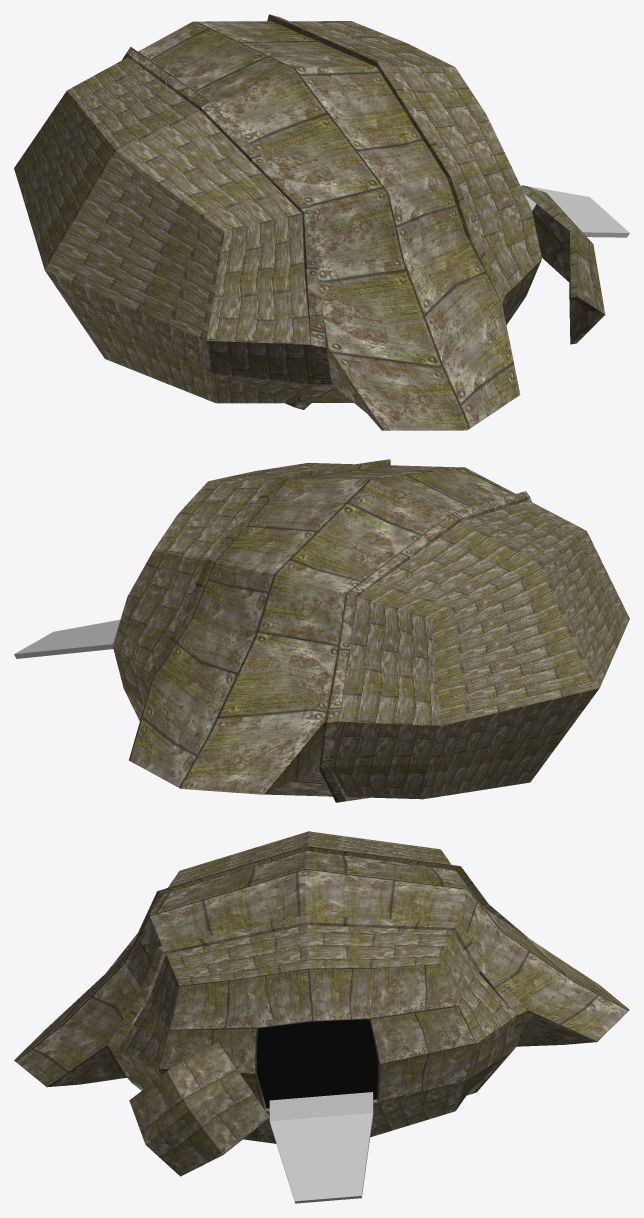
File: ship.fbx
3 views of the same model, one above another, from view 1: azimuth 30°, elevation 25°; view 2: azimuth 150°, elevation 25°; view 3: azimuth 270°, elevation 25° (orthographic). The views are drawn at different scales.
Parts seen in each view (by area): view 1: Cube, Cube.001, Cube.002; view 2: Cube, Cube.002; view 3: Cube, Cube.001, Cube.002, Plane.
Boxes of the visible parts, box(x1,y1,x2,y2) form: Cube: box(14, 14, 541, 430); Cube.001: box(521, 185, 605, 344); Cube.002: box(520, 185, 629, 237); Cube: box(112, 459, 629, 802); Cube.002: box(14, 619, 120, 658); Cube: box(14, 831, 629, 1143); Cube.001: box(129, 1042, 269, 1176); Cube.002: box(269, 1092, 373, 1203); Plane: box(256, 1019, 378, 1108).
Bounding box in the file's own units: 3326 × 1660 × 3753.
